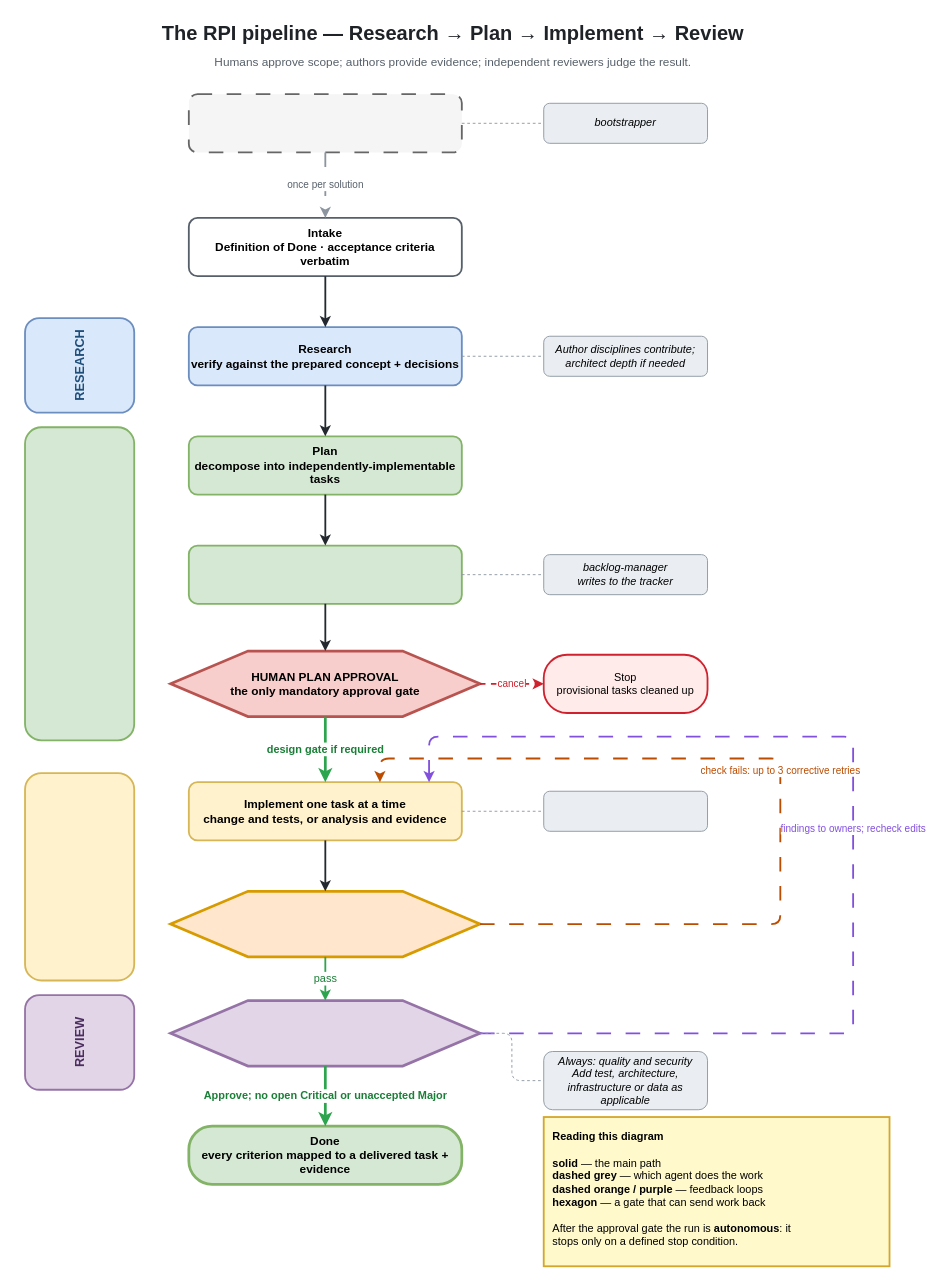
The diagram is 941 pixels wide and 1282 high, and some of its shapes have lost their labels. The shapes that lost their labels are listed below. From the top down, each one's centre as x and y in pixels, then its label:
At point 324,123: "Bootstrap profile + selected guidance".
At point 79,583: "PLAN".
At point 324,574: "Prepare plan linked provisional tasks if enabled; otherwise inline".
At point 625,810: "dev-lead or task specialist data analysis: data-scientist".
At point 79,876: "IMPLEMENT".
At point 325,924: "Test-bar gate configured checks, then local smoke".
At point 325,1033: "Review independent lenses, one verdict".
